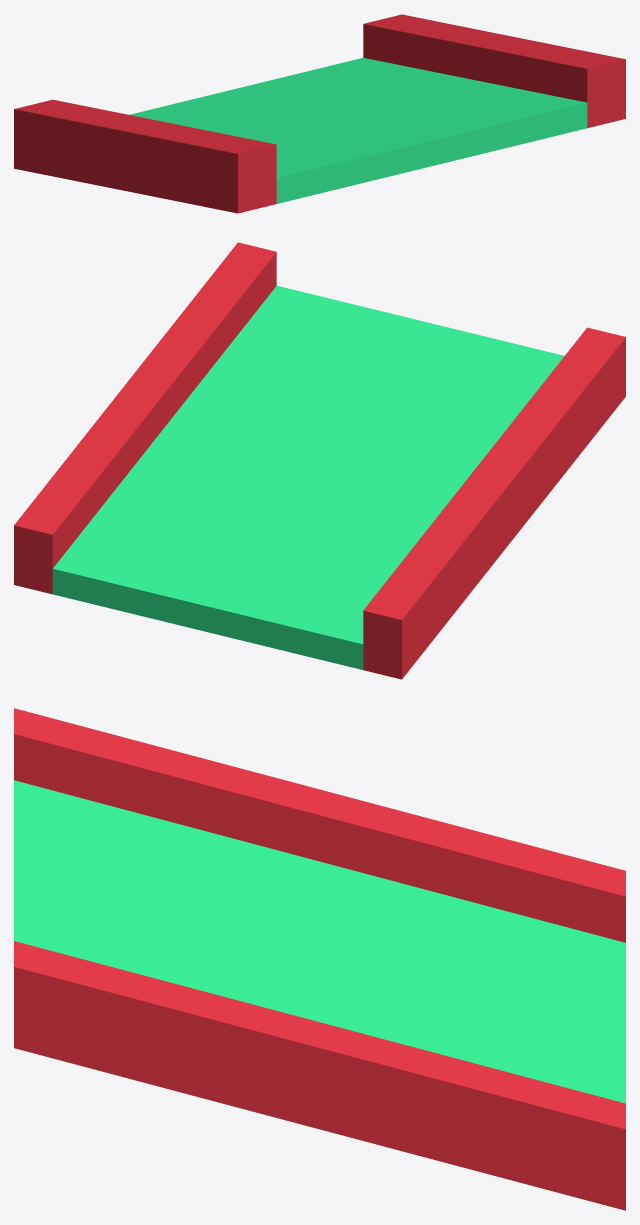
The model's file is rampB.fbx.
3 renders of one model, top to bottom at view 1: azimuth 30°, elevation 25°; view 2: azimuth 150°, elevation 25°; view 3: azimuth 270°, elevation 25°, orthographic. The views are drawn at different scales.
Parts seen in each view (by area): view 1: rampB; view 2: rampB; view 3: rampB.
Part boxes in pixels (x1,y1,x2,y2): rampB: [14, 14, 625, 213]; rampB: [14, 242, 625, 679]; rampB: [14, 708, 625, 1210].
Size of the model in its own units: 10 by 4.4 by 10.
